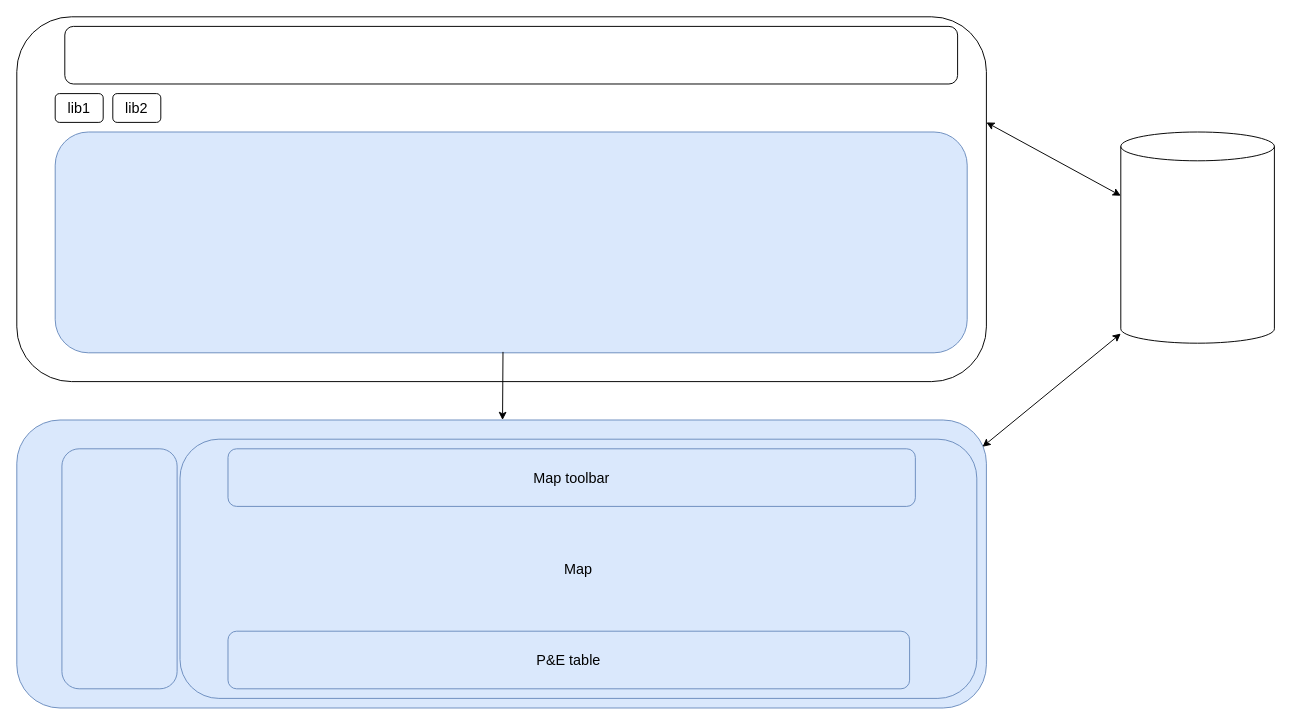
Some shapes in this 1291 by 725 pixel diagram are drawn without their labels. The centre of each missing label's shape, as x and y in pixels:
"HEADER" goes at [511,54].
"lib-lib1" goes at [510,242].
"Mobile list" goes at [119,568].
"NgRx Store" goes at [1197,237].
